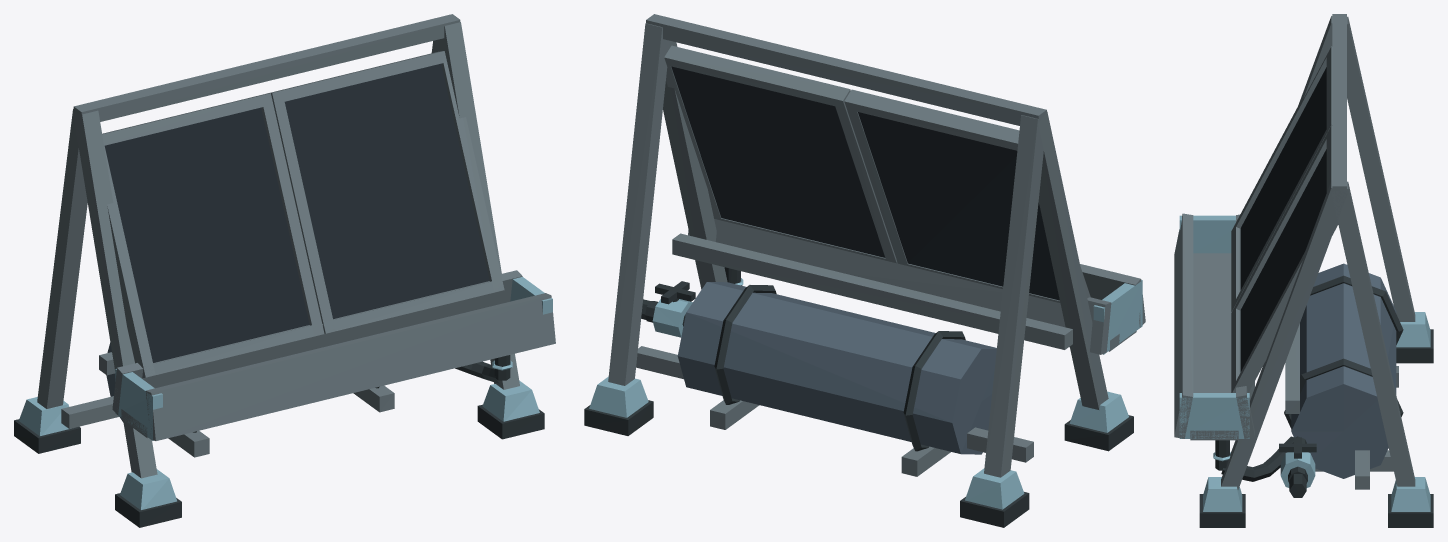
Rendered from Meltwater-Collector.glb.
3 views of the same model, side by side, from view 1: azimuth 30°, elevation 25°; view 2: azimuth 150°, elevation 25°; view 3: azimuth 270°, elevation 25° (orthographic). The views are drawn at different scales.
Visible parts, largest first — view 1: meltwater-collector-static-meltwater-galvanized-frame-mat, meltwater-collector-static-meltwater-charcoal-panel-mat, meltwater-collector-static-meltwater-frost-blue-accent-mat, meltwater-collector-static-meltwater-dark-iron-fitting-mat; view 2: meltwater-collector-static-meltwater-galvanized-frame-mat, meltwater-collector-static-meltwater-charcoal-panel-mat, meltwater-collector-static-meltwater-insulated-tank-mat, meltwater-collector-static-meltwater-dark-iron-fitting-mat, meltwater-collector-static-meltwater-frost-blue-accent-mat; view 3: meltwater-collector-static-meltwater-galvanized-frame-mat, meltwater-collector-static-meltwater-insulated-tank-mat, meltwater-collector-static-meltwater-charcoal-panel-mat, meltwater-collector-static-meltwater-frost-blue-accent-mat, meltwater-collector-static-meltwater-dark-iron-fitting-mat.
Boxes of the visible parts, left/top/right/bottom form: meltwater-collector-static-meltwater-galvanized-frame-mat: left=37, top=14, right=555, bottom=478; meltwater-collector-static-meltwater-charcoal-panel-mat: left=104, top=63, right=489, bottom=362; meltwater-collector-static-meltwater-frost-blue-accent-mat: left=19, top=277, right=552, bottom=509; meltwater-collector-static-meltwater-dark-iron-fitting-mat: left=14, top=355, right=544, bottom=527; meltwater-collector-static-meltwater-galvanized-frame-mat: left=608, top=14, right=1145, bottom=477; meltwater-collector-static-meltwater-charcoal-panel-mat: left=671, top=66, right=1059, bottom=300; meltwater-collector-static-meltwater-insulated-tank-mat: left=677, top=282, right=996, bottom=454; meltwater-collector-static-meltwater-dark-iron-fitting-mat: left=584, top=267, right=1133, bottom=527; meltwater-collector-static-meltwater-frost-blue-accent-mat: left=589, top=278, right=1142, bottom=509; meltwater-collector-static-meltwater-galvanized-frame-mat: left=1174, top=14, right=1415, bottom=489; meltwater-collector-static-meltwater-insulated-tank-mat: left=1291, top=263, right=1396, bottom=478; meltwater-collector-static-meltwater-charcoal-panel-mat: left=1240, top=67, right=1326, bottom=371; meltwater-collector-static-meltwater-frost-blue-accent-mat: left=1179, top=215, right=1430, bottom=511; meltwater-collector-static-meltwater-dark-iron-fitting-mat: left=1199, top=275, right=1433, bottom=527.
Size of the model in its own units: 3.49 by 2.76 by 1.93.
